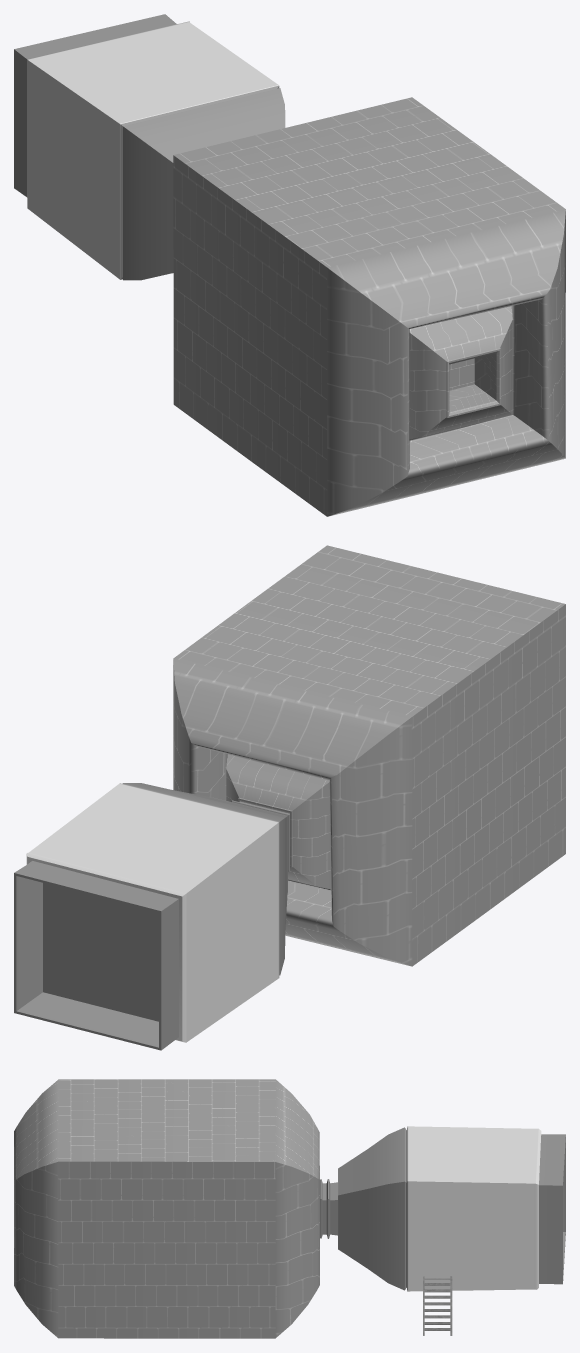
Rendered from ModuloAstronautas_vFinal.fbx.
3 renders of one model, top to bottom at view 1: azimuth 30°, elevation 25°; view 2: azimuth 150°, elevation 25°; view 3: azimuth 270°, elevation 25°, orthographic. The views are drawn at different scales.
Visible parts, largest first — view 1: Estacion1, Modulo; view 2: Estacion1, Modulo; view 3: Estacion1, Modulo.
Boxes of the visible parts, x1,y1,x2,y2 form: Estacion1: (173,97,565,516); Modulo: (14,14,285,280); Estacion1: (173,545,565,966); Modulo: (14,783,289,1050); Estacion1: (14,1079,319,1338); Modulo: (320,1126,565,1291).
Size of the model in its own units: 18.17 by 17.28 by 48.86.
